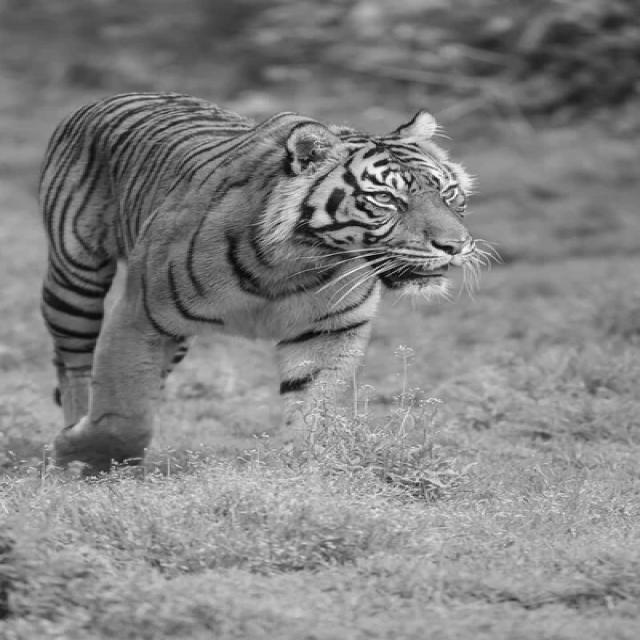Animal: (38, 92, 477, 475)
